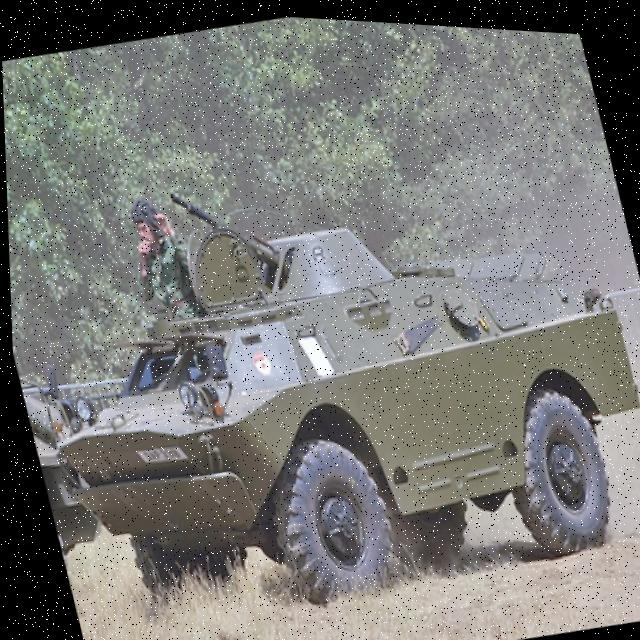MIL_APC: (8, 133, 640, 640)
